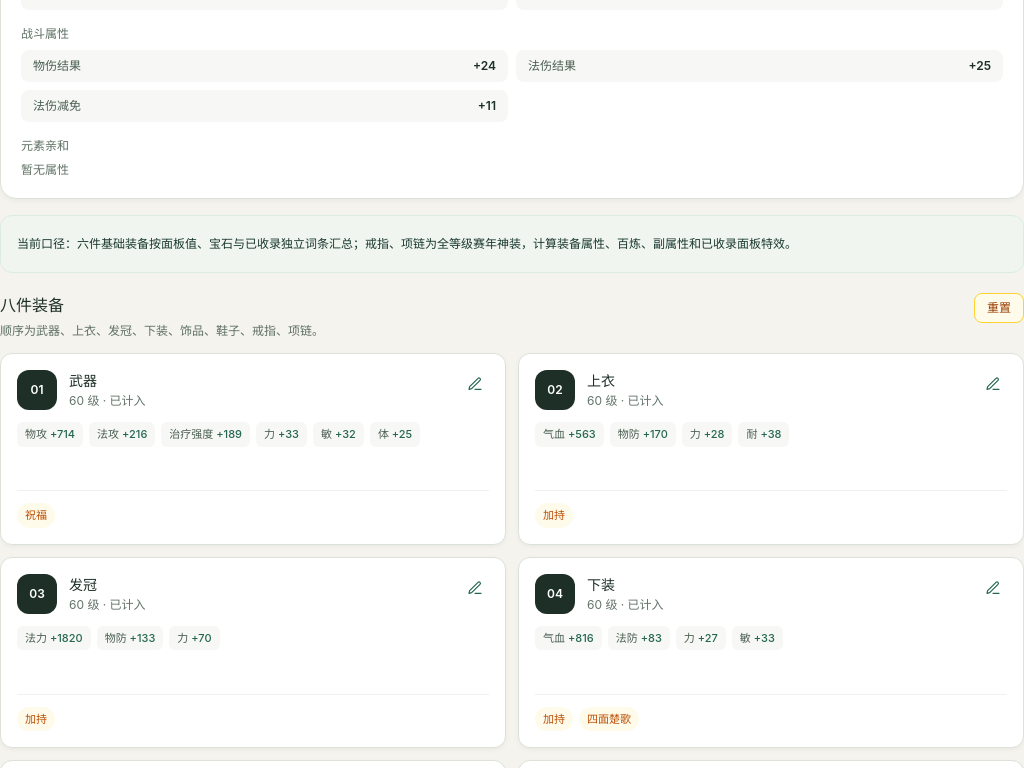
Test: EquipmentCalculator › 应该把已有加持值作为附加五维展示并保持三条互斥
(page scrolled)
Click the button named "编辑上衣". click: (993, 384)
box: top-left (979, 370), bottom-right (1007, 398)
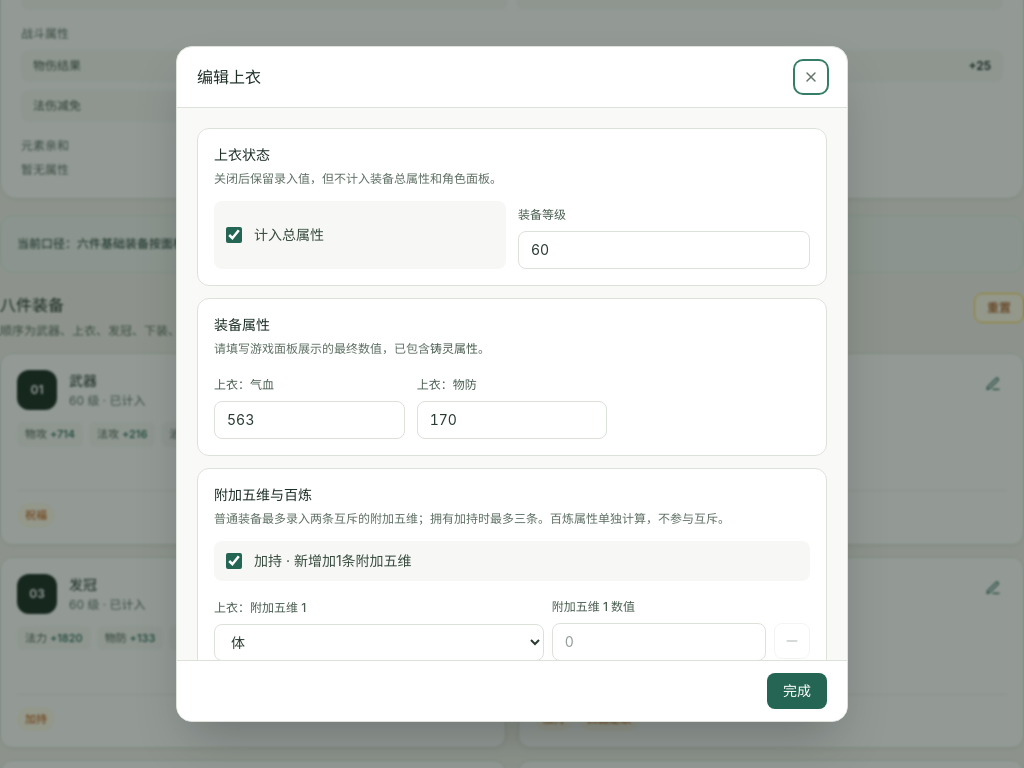
Expected: the checkbox labelled "加持 · 新增加1条附加五维" is checked, top-left (226, 553), bottom-right (242, 569)
